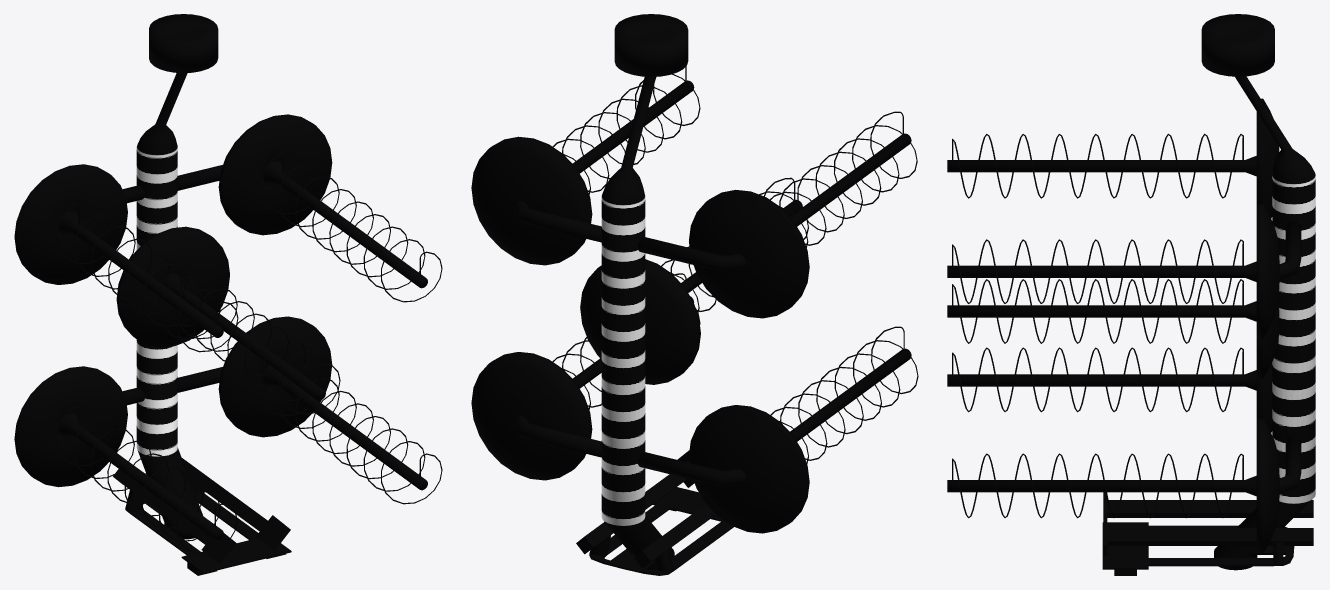
Rendered from tacsat_antenna_NEW.fbx.
The picture shows the model from 3 angles, left to right: view 1: azimuth 30°, elevation 25°; view 2: azimuth 150°, elevation 25°; view 3: azimuth 270°, elevation 25°; orthographic projection. The views are drawn at different scales.
Parts seen in each view (by area): view 1: AntennaPlate_Cube.004, AntennaStems, CoilBL_Circle.005, Dishes.002, Dishes, Dishes.001, Dishes.004, Dishes.003, AntennaPlate_Cube.002; view 2: AntennaPlate_Cube.004, Dishes, Dishes.003, Dishes.006, Dishes.005, Dishes.004, CoilBL_Circle.005, AntennaStems, AntennaPlate_Cube.002, Dishes.001, Dishes.002, AntennaPlate_Cube.001; view 3: AntennaPlate_Cube.004, AntennaStems, CoilBL_Circle.005, AntennaPlate_Cube.002, Dishes.003, Dishes, Dishes.005, Dishes.004, Dishes.001, Dishes.006.
Part boxes in pixels (left/top/right/bottom): AntennaPlate_Cube.004: left=63, top=14, right=222, bottom=539; AntennaStems: left=58, top=161, right=427, bottom=539; CoilBL_Circle.005: left=56, top=153, right=442, bottom=554; Dishes.002: left=14, top=366, right=127, bottom=487; Dishes: left=218, top=114, right=332, bottom=235; Dishes.001: left=14, top=164, right=127, bottom=284; Dishes.004: left=116, top=226, right=229, bottom=347; Dishes.003: left=218, top=316, right=332, bottom=437; AntennaPlate_Cube.002: left=113, top=458, right=291, bottom=575; AntennaPlate_Cube.004: left=514, top=14, right=745, bottom=569; Dishes: left=471, top=136, right=592, bottom=265; Dishes.003: left=471, top=352, right=592, bottom=480; Dishes.006: left=689, top=407, right=806, bottom=533; Dishes.005: left=689, top=192, right=806, bottom=318; Dishes.004: left=580, top=259, right=700, bottom=384; CoilBL_Circle.005: left=552, top=66, right=918, bottom=463; AntennaStems: left=572, top=80, right=911, bottom=441; AntennaPlate_Cube.002: left=576, top=450, right=733, bottom=575; Dishes.001: left=707, top=190, right=809, bottom=307; Dishes.002: left=708, top=405, right=809, bottom=522; AntennaPlate_Cube.001: left=589, top=535, right=673, bottom=573; AntennaPlate_Cube.004: left=1201, top=14, right=1315, bottom=570; AntennaStems: left=947, top=156, right=1256, bottom=496; CoilBL_Circle.005: left=952, top=133, right=1243, bottom=518; AntennaPlate_Cube.002: left=1102, top=492, right=1313, bottom=575; Dishes.003: left=1256, top=418, right=1279, bottom=553; Dishes: left=1256, top=204, right=1279, bottom=338; Dishes.005: left=1263, top=99, right=1279, bottom=218; Dishes.004: left=1256, top=300, right=1279, bottom=378; Dishes.001: left=1256, top=98, right=1263, bottom=204; Dishes.006: left=1263, top=362, right=1272, bottom=432.
Size of the model in its own units: 151 by 229 by 144.
1 material, 1 textured.
